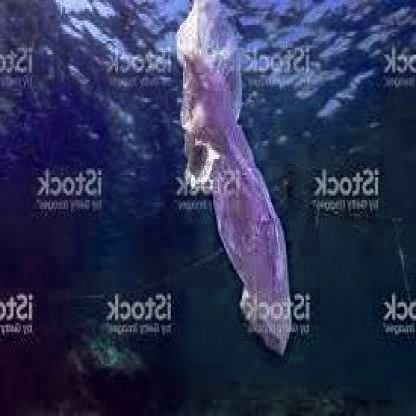pbag: (172, 2, 295, 357)
